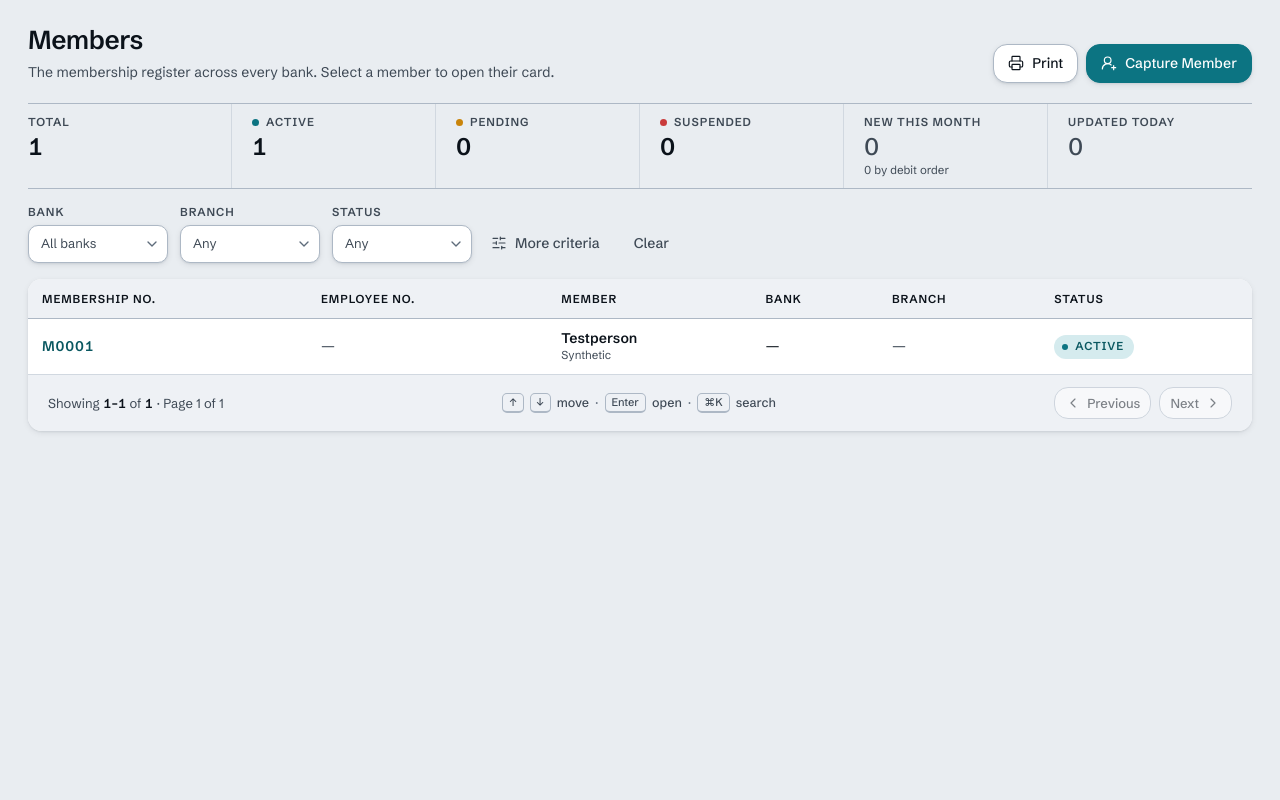
Scenario: editing: only the questions the stakeholder asked, nested as they said › a member who is not BEC is asked two questions -- COSATU is not offered at all
Click the button named "open the record for": click(68, 346) 42,336 -> 94,357
(page scrolled)
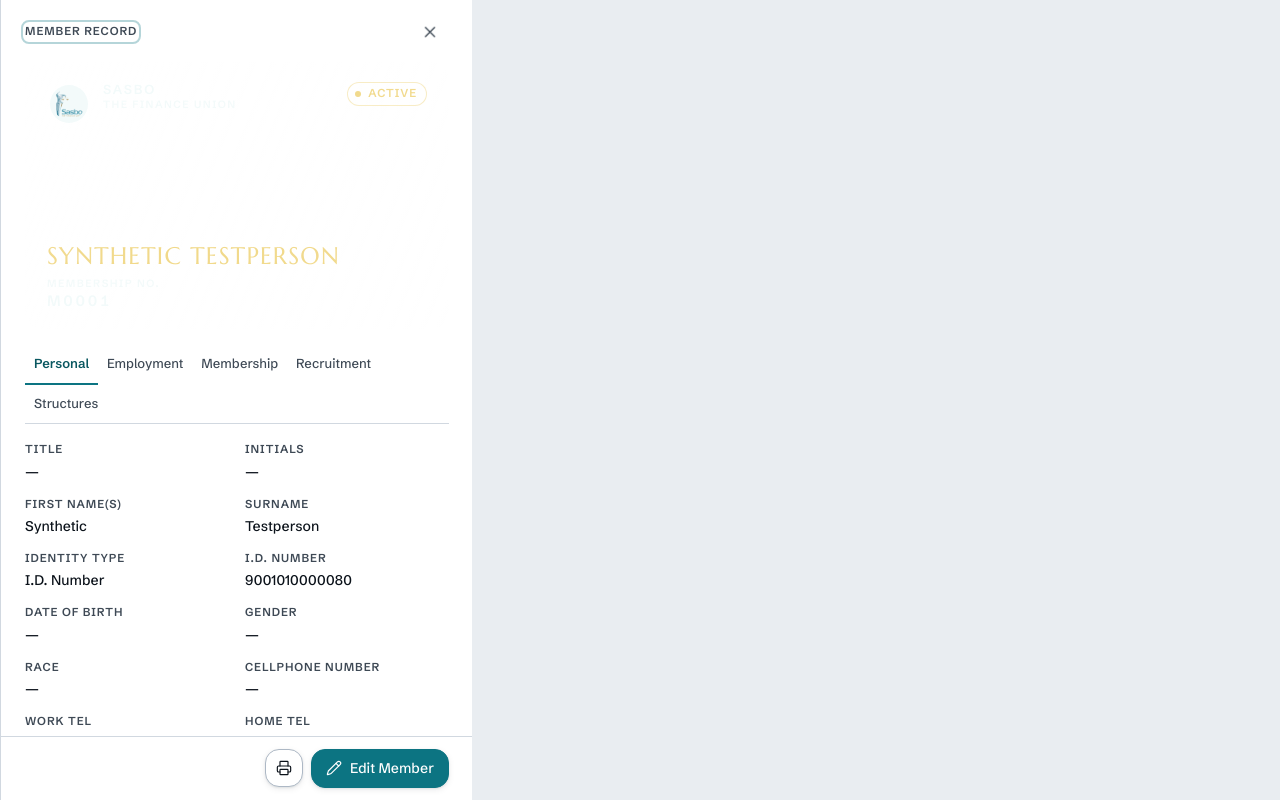
Click the button "Edit Member": click(380, 768) 311,749 -> 449,788
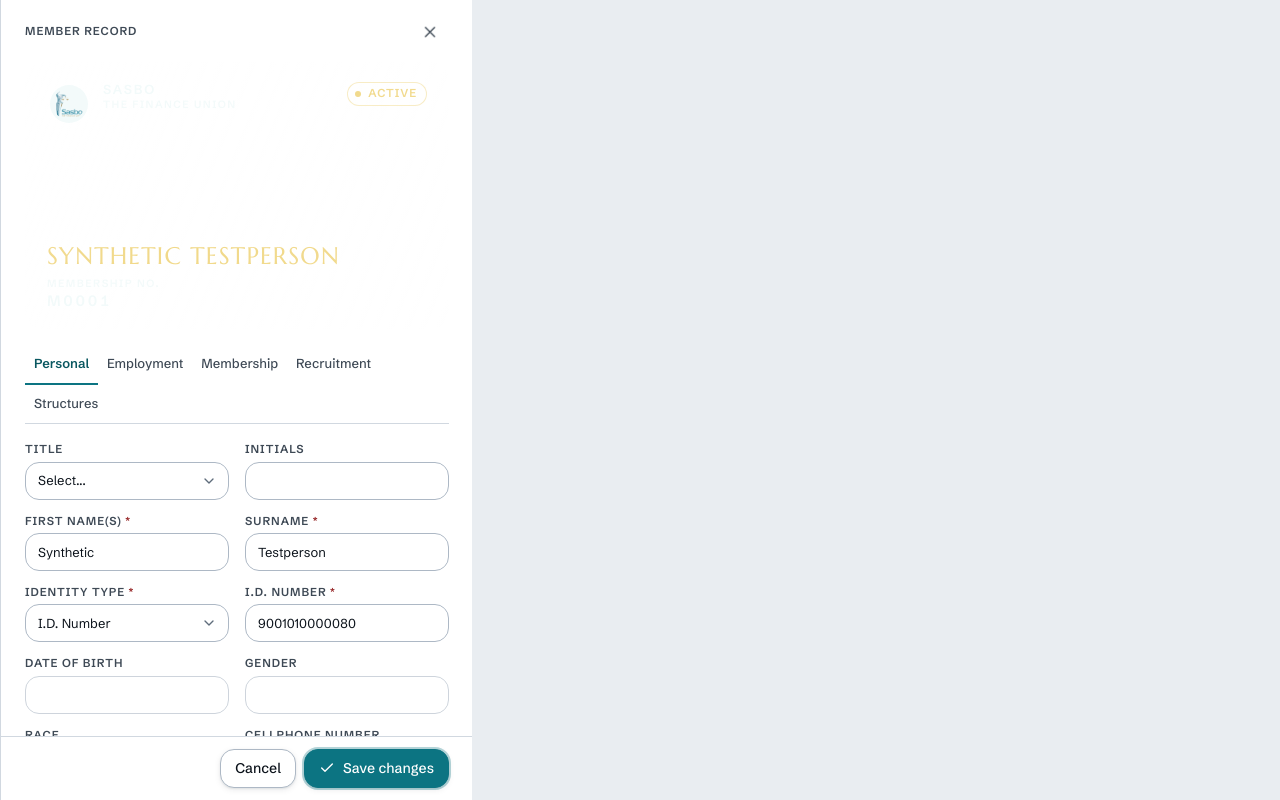
Click the button named "Sasbo Structures": click(66, 405) 25,385 -> 107,424
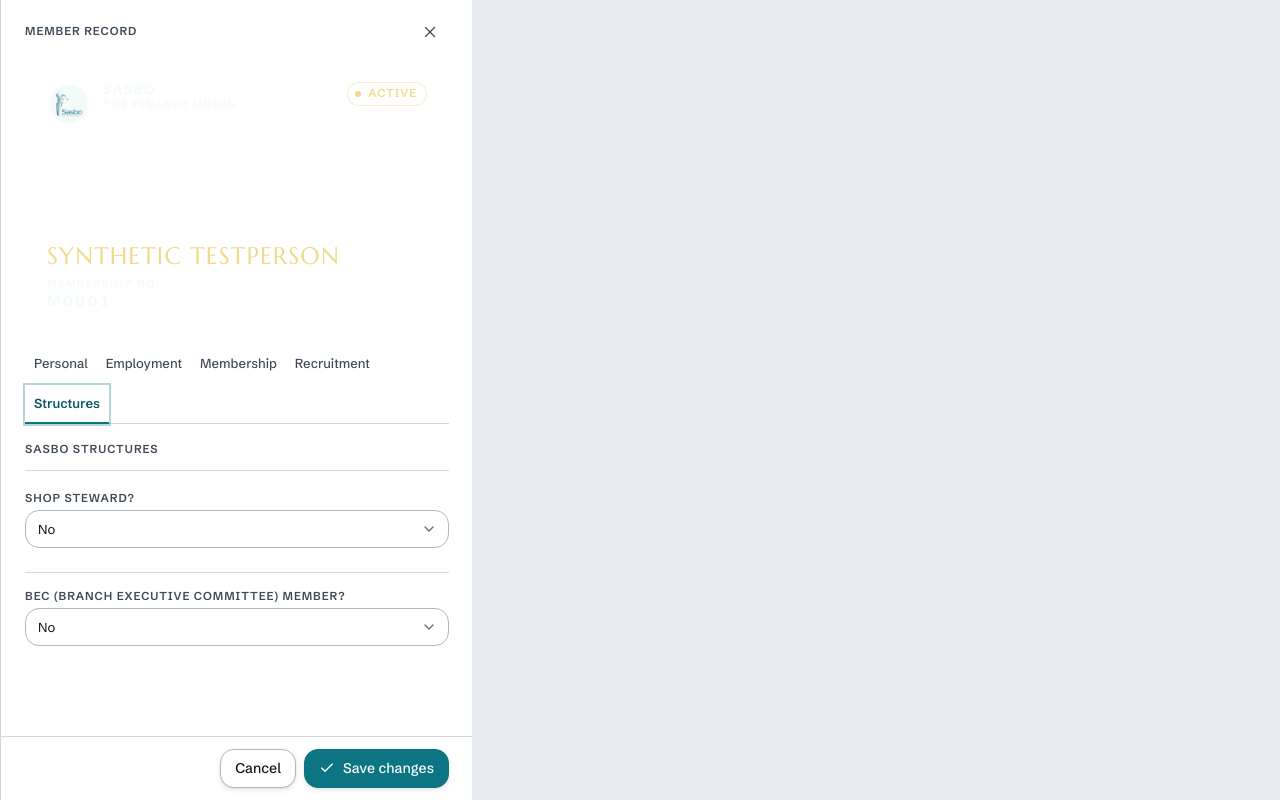
Expected: the dropdown labelled "Shop Steward?" is shown, 25,510 -> 449,548
Expected: the dropdown labelled "BEC (Branch Executive Committee) Member?" is shown, 25,608 -> 449,646
